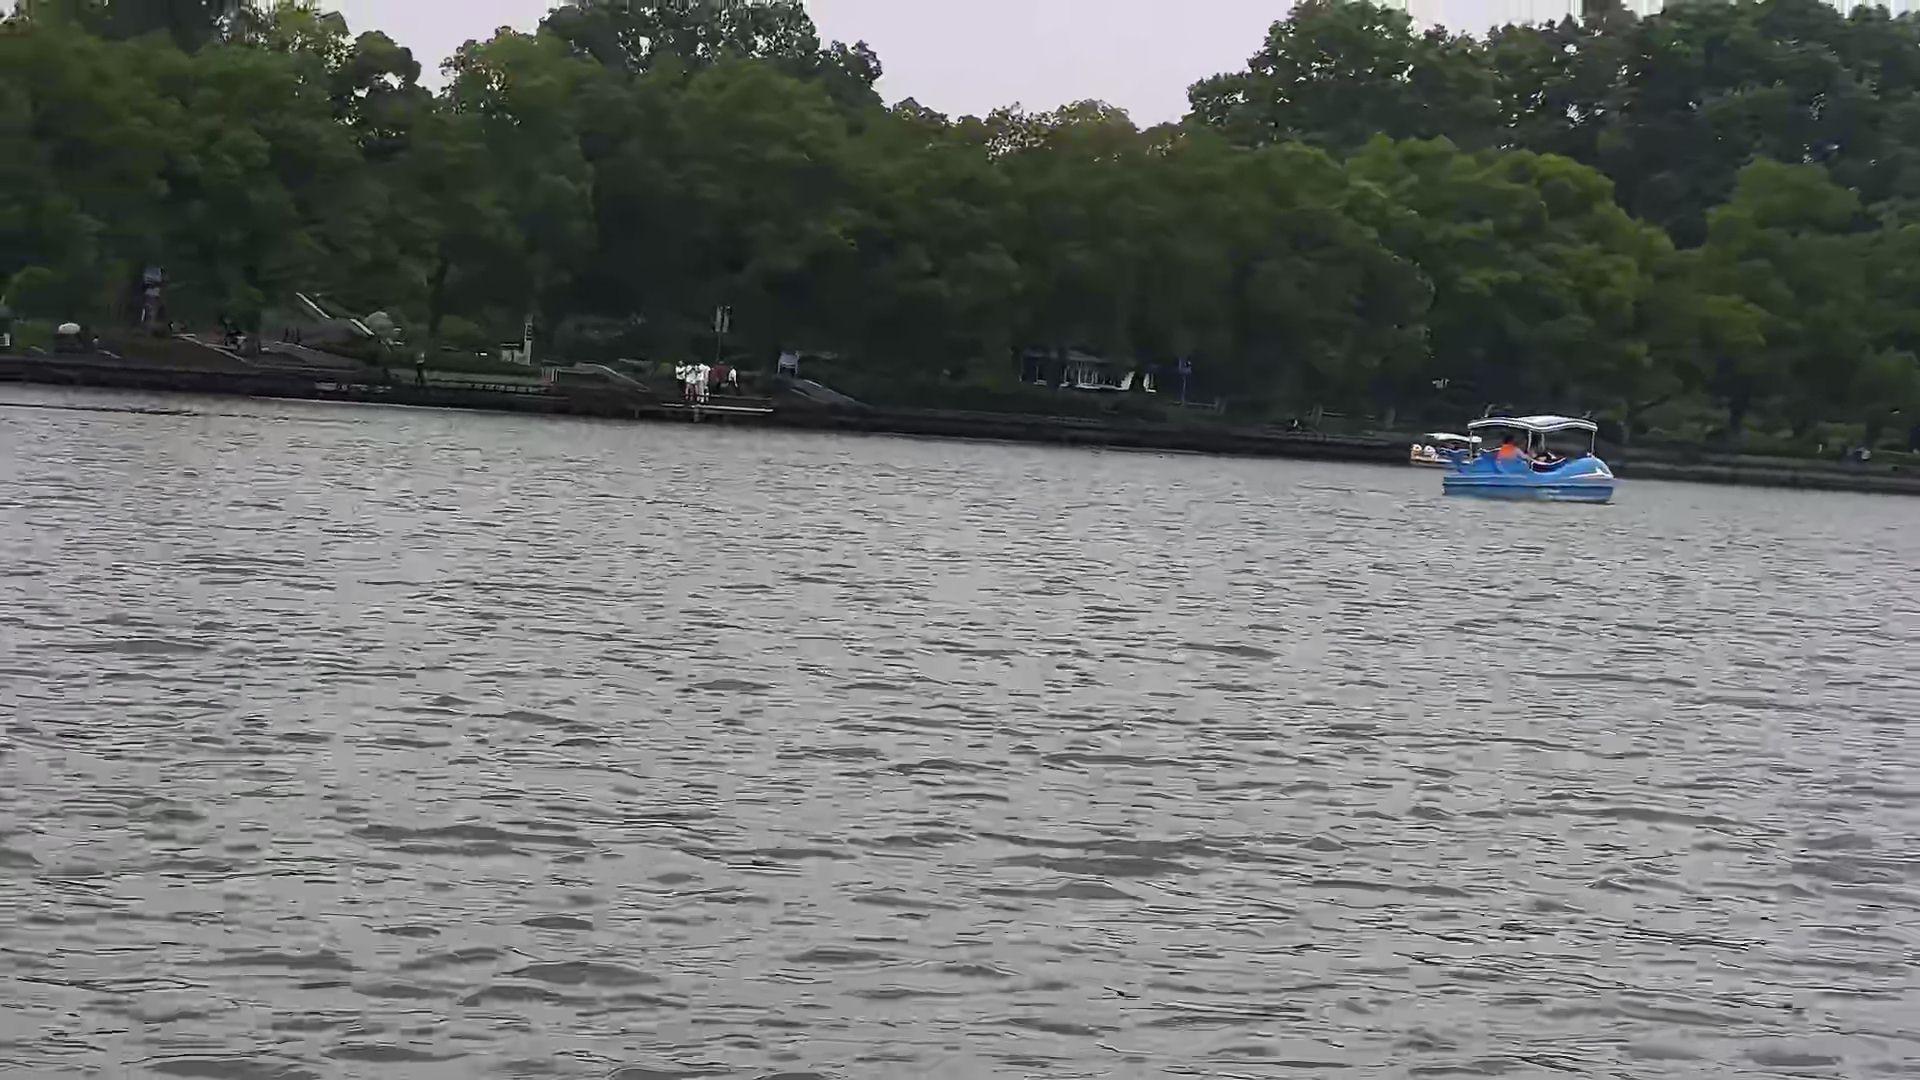boat: (1424, 407, 1636, 516), (1410, 417, 1484, 475)
